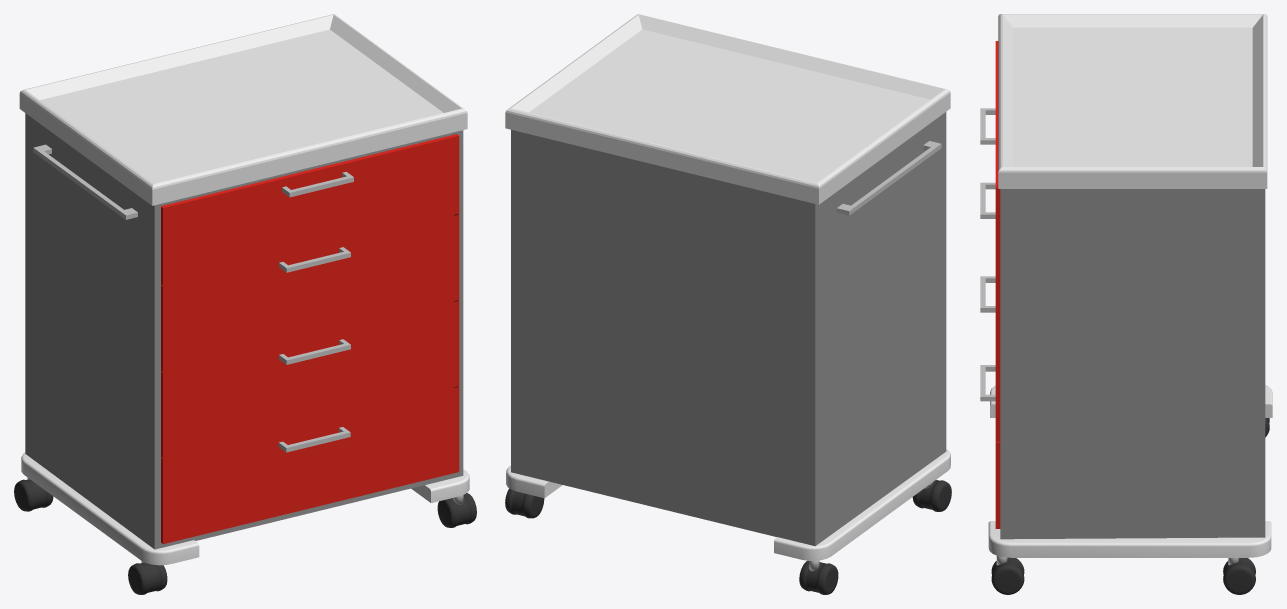
The model's file is cabinet_on_wheels.glb.
The picture shows the model from 3 angles, left to right: view 1: azimuth 30°, elevation 25°; view 2: azimuth 150°, elevation 25°; view 3: azimuth 270°, elevation 25°; orthographic projection. The views are drawn at different scales.
Visible parts, largest first — view 1: Cabinet on wheels, foot Left, Big handle, 1 wheel, foot right, 4 wheel, 2 wheel, 2 handle, 4 handle; view 2: Cabinet on wheels, foot Left, Big handle, 2 wheel, foot right, 1 wheel, 3 wheel; view 3: Cabinet on wheels, foot right, 4 wheel, 3 wheel, foot Left.
Part boxes in pixels (x1,y1,x2,y2): Cabinet on wheels: (19, 14, 467, 549); foot Left: (21, 453, 199, 565); Big handle: (33, 144, 137, 219); 1 wheel: (128, 563, 167, 594); foot right: (411, 469, 469, 502); 4 wheel: (437, 493, 476, 527); 2 wheel: (14, 479, 53, 511); 2 handle: (279, 247, 350, 272); 4 handle: (278, 427, 350, 452); Cabinet on wheels: (505, 14, 950, 546); foot Left: (774, 449, 950, 560); Big handle: (836, 141, 941, 215); 2 wheel: (799, 561, 838, 594); foot right: (506, 466, 562, 498); 1 wheel: (912, 480, 951, 511); 3 wheel: (505, 488, 544, 518); Cabinet on wheels: (995, 14, 1267, 539); foot right: (988, 521, 1271, 557); 4 wheel: (991, 557, 1024, 594); 3 wheel: (1223, 558, 1255, 594); foot Left: (990, 385, 1272, 417).
Bounding box in the file's own units: 0.7551 × 0.9106 × 0.5691.
